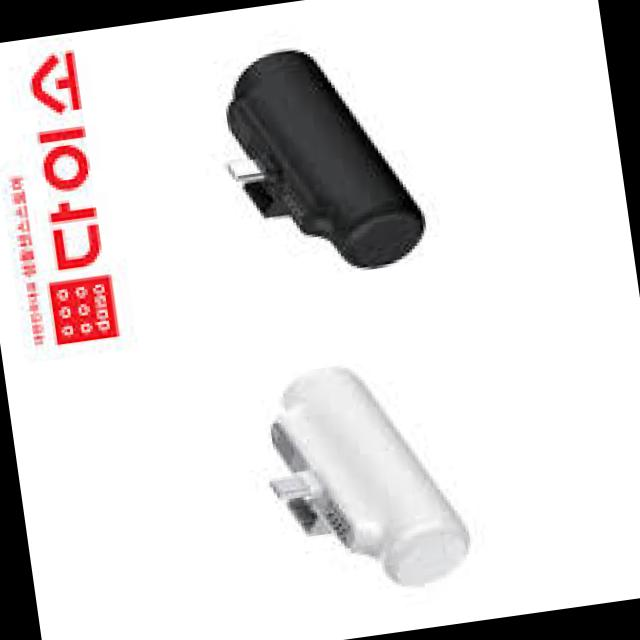power_bank: (202, 33, 438, 295), (246, 347, 477, 612)
